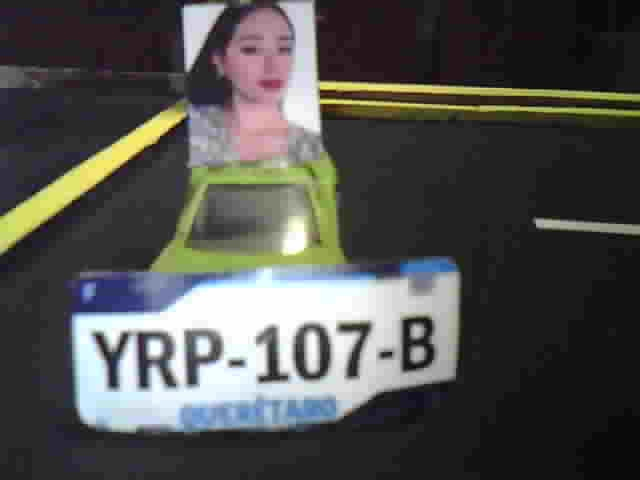PLACA: (65, 254, 462, 438)
ROSTRO: (186, 6, 323, 163)
